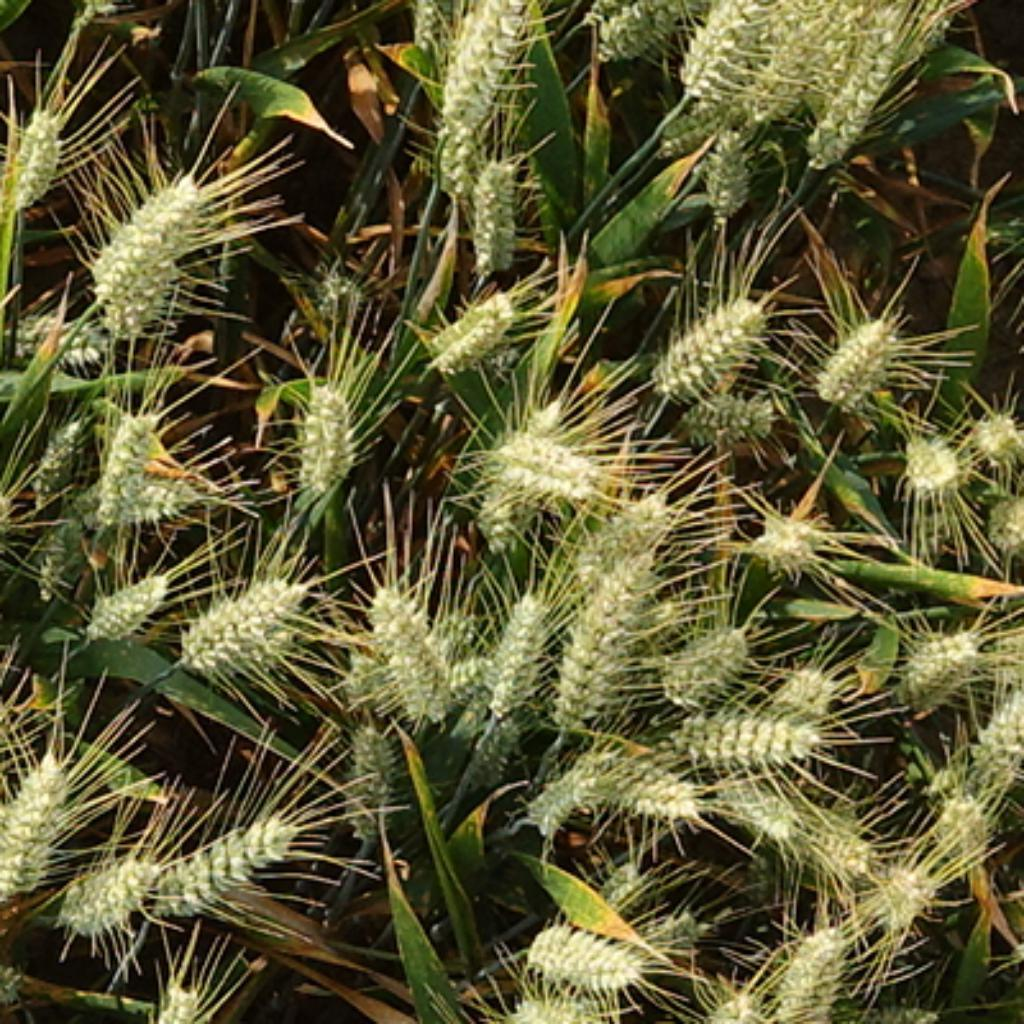0-0: (555, 517, 657, 724), (422, 2, 547, 156), (148, 791, 302, 911), (465, 371, 563, 552), (79, 161, 207, 299), (355, 593, 481, 732), (174, 560, 312, 678), (640, 279, 770, 394), (729, 0, 852, 117), (76, 419, 197, 527), (822, 0, 914, 140), (560, 483, 675, 588), (110, 204, 192, 345), (668, 693, 826, 765), (581, 734, 706, 824), (668, 2, 775, 107), (494, 422, 601, 524), (435, 53, 506, 204), (53, 834, 163, 931), (0, 749, 75, 890), (337, 706, 417, 834), (453, 138, 532, 266), (519, 908, 650, 985), (76, 463, 230, 527), (284, 368, 363, 491), (811, 302, 906, 404), (419, 279, 524, 371), (0, 291, 115, 373), (478, 581, 552, 706), (770, 913, 855, 1018), (888, 611, 985, 701), (775, 793, 875, 880), (527, 732, 601, 844), (657, 611, 755, 693), (0, 92, 71, 204), (960, 673, 1024, 783), (181, 614, 309, 668), (79, 560, 171, 634), (570, 0, 677, 63), (670, 378, 775, 440), (714, 768, 803, 837), (744, 496, 829, 568), (330, 624, 389, 721), (30, 404, 97, 488), (862, 849, 939, 921), (696, 125, 760, 209), (458, 701, 524, 780), (299, 250, 371, 322), (898, 419, 967, 494), (926, 778, 993, 849), (657, 97, 739, 153), (125, 970, 209, 1024), (678, 977, 770, 1024), (501, 980, 599, 1024), (765, 655, 837, 714), (593, 849, 663, 908), (445, 637, 499, 711), (624, 913, 714, 957), (422, 606, 478, 675), (962, 399, 1021, 463), (396, 2, 453, 66), (28, 532, 71, 601), (572, 0, 669, 30), (989, 494, 1024, 569)
